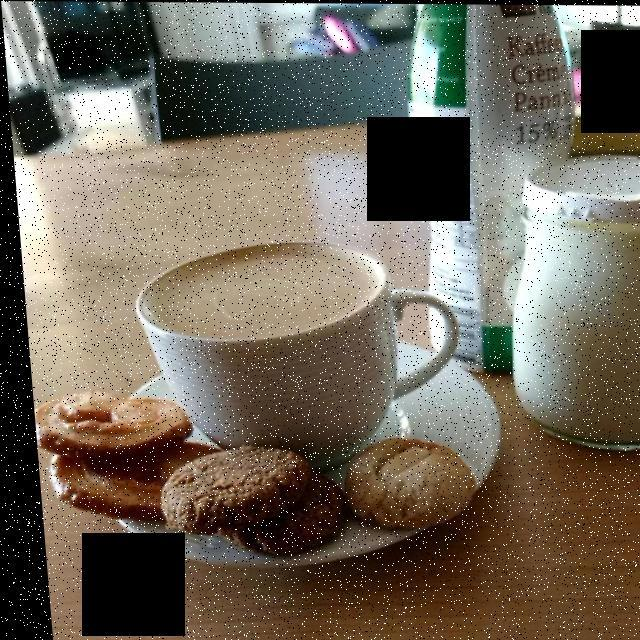biscuits: (152, 434, 462, 564)
coffee: (148, 237, 354, 357)
yogurt: (506, 179, 640, 437)
